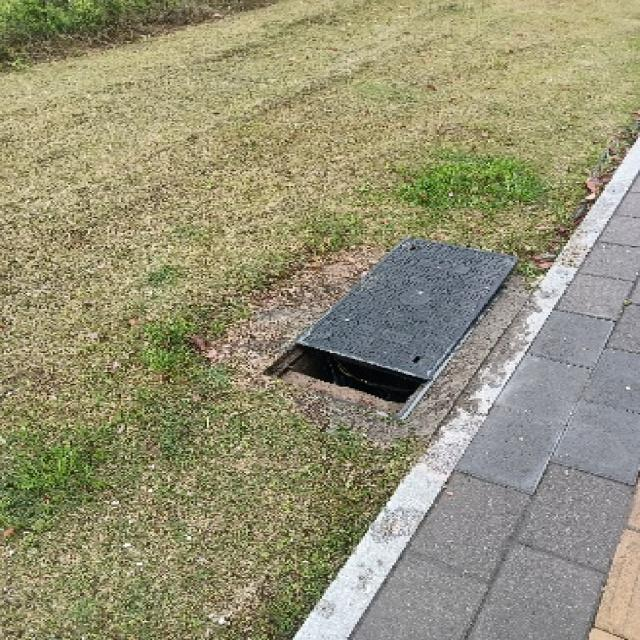Faulty: (248, 208, 550, 425)
